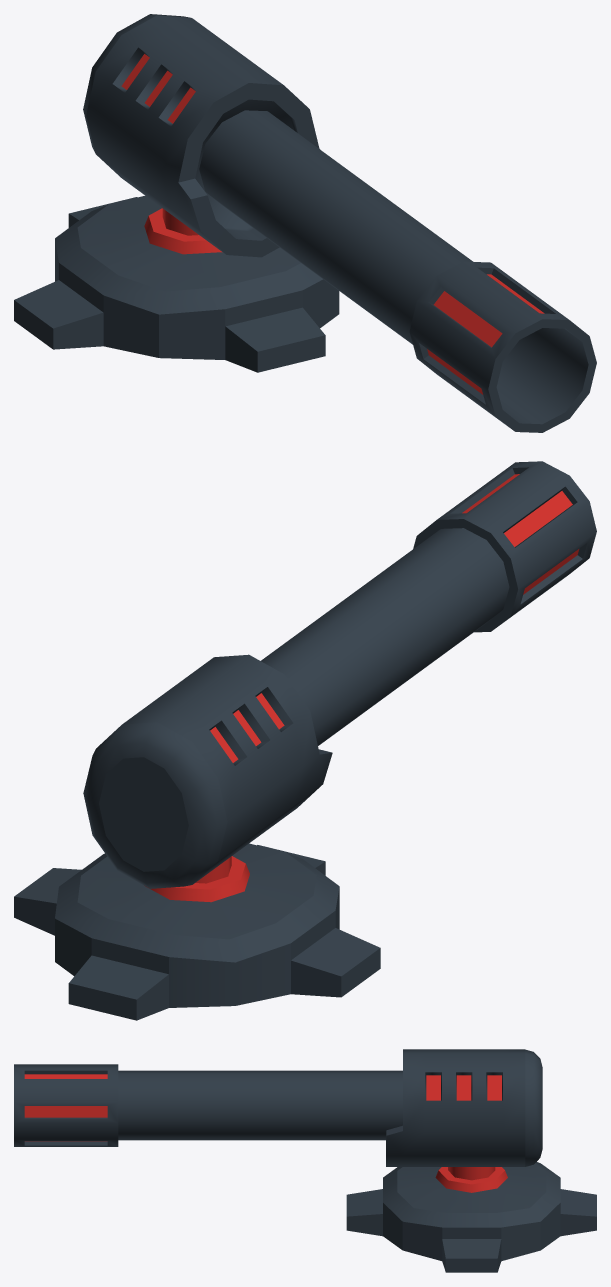
File: Turrets.fbx
3 renders of one model, top to bottom at view 1: azimuth 30°, elevation 25°; view 2: azimuth 150°, elevation 25°; view 3: azimuth 270°, elevation 25°, orthographic. The views are drawn at different scales.
Visible parts, largest first — view 1: Taret_1_1, Taret_1_2; view 2: Taret_1_1, Taret_1_2; view 3: Taret_1_1, Taret_1_2.
Boxes of the visible parts, x1,y1,x2,y2 form: Taret_1_1: [83, 14, 596, 432]; Taret_1_2: [14, 195, 339, 372]; Taret_1_1: [83, 461, 596, 888]; Taret_1_2: [14, 843, 380, 1020]; Taret_1_1: [14, 1049, 542, 1166]; Taret_1_2: [346, 1162, 596, 1272].
Bounding box in the file's own units: 206 × 88.38 × 66.28.
